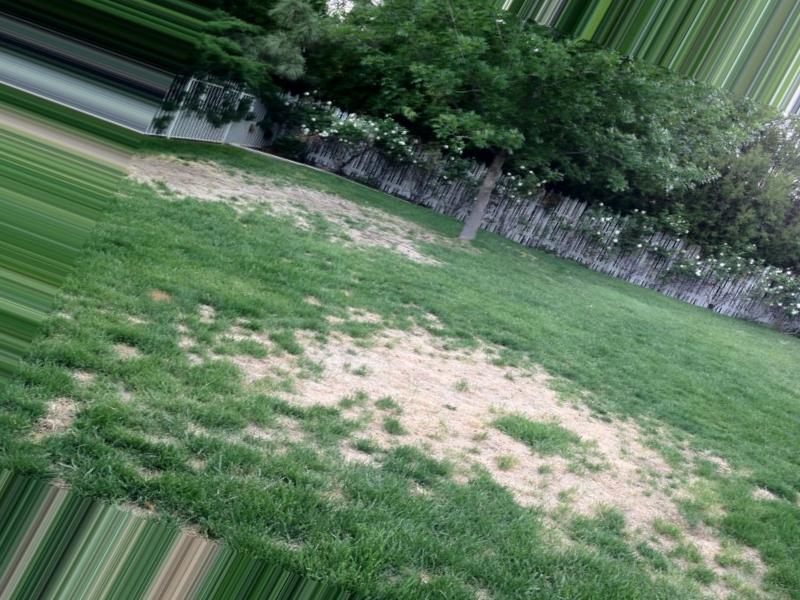patch: (274, 301, 620, 521), (78, 305, 297, 452), (152, 149, 423, 264)
